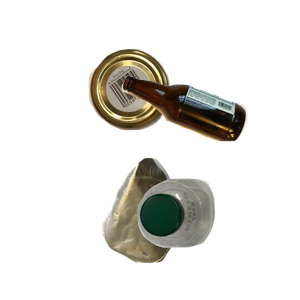glass: (119, 73, 300, 207)
metal: (86, 46, 248, 169)
plastic: (135, 176, 300, 300)
trash: (99, 155, 268, 300)
